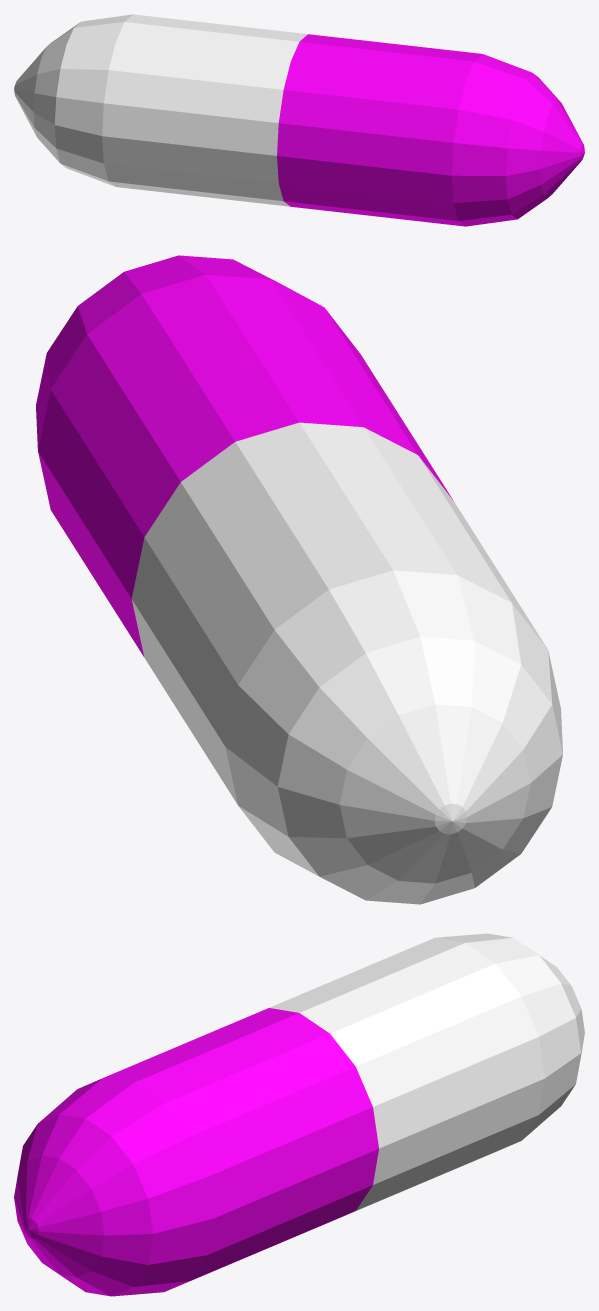
The model's file is pill.glb.
3 views of the same model, one above another, from view 1: azimuth 30°, elevation 25°; view 2: azimuth 150°, elevation 25°; view 3: azimuth 270°, elevation 25° (orthographic). The views are drawn at different scales.
Parts seen in each view (by area): view 1: Cylinder; view 2: Cylinder; view 3: Cylinder.
Boxes of the visible parts, x1,y1,x2,y2 form: Cylinder: (14,14,584,226); Cylinder: (36,255,562,904); Cylinder: (14,933,584,1296).
Bounding box in the file's own units: 0.5694 × 0.2245 × 0.5694.
1 material, 1 textured.
